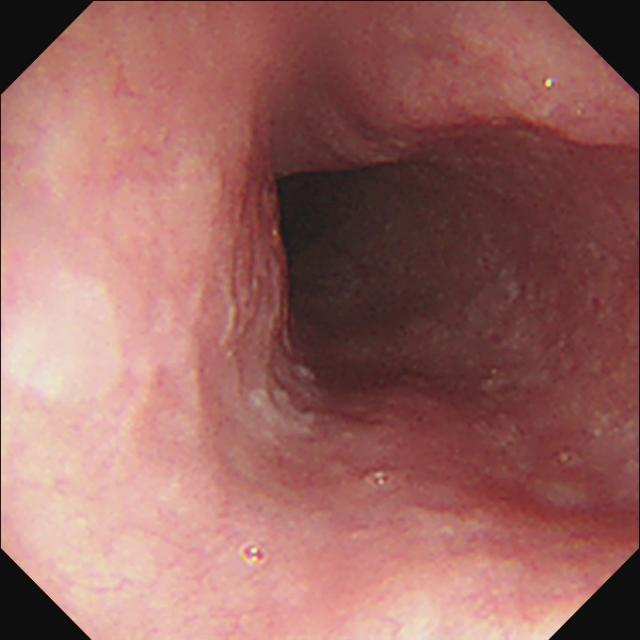E: (253, 144, 465, 407)
